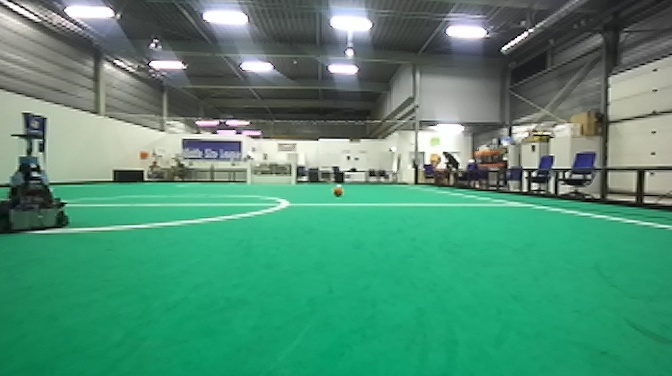ball: (330, 184, 346, 200)
goal: (245, 159, 298, 188)
goalpost: (290, 159, 298, 185), (245, 160, 252, 186)
robot: (1, 107, 78, 239)
